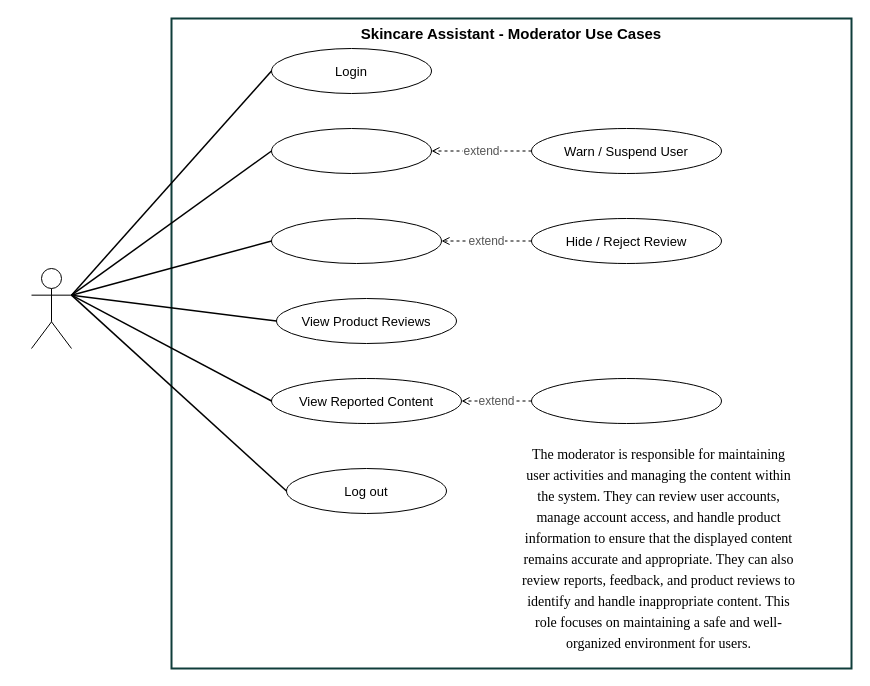
Image size: 870x686. Some labels were removed from this diagram. Each missing label, with the centre of its shape:
"Manage Users" goes at [351,151].
"Moderate Reviews" goes at [356,241].
"Moderator" goes at [51,308].
"Report to Admin" goes at [626,401].
